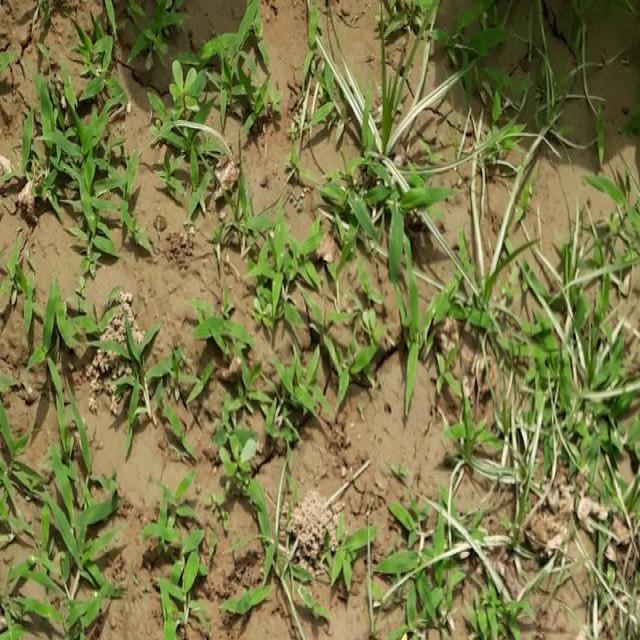weed: (67, 0, 464, 231), (367, 290, 640, 581), (38, 407, 298, 612), (509, 3, 640, 241), (10, 194, 150, 396), (220, 237, 349, 391)
